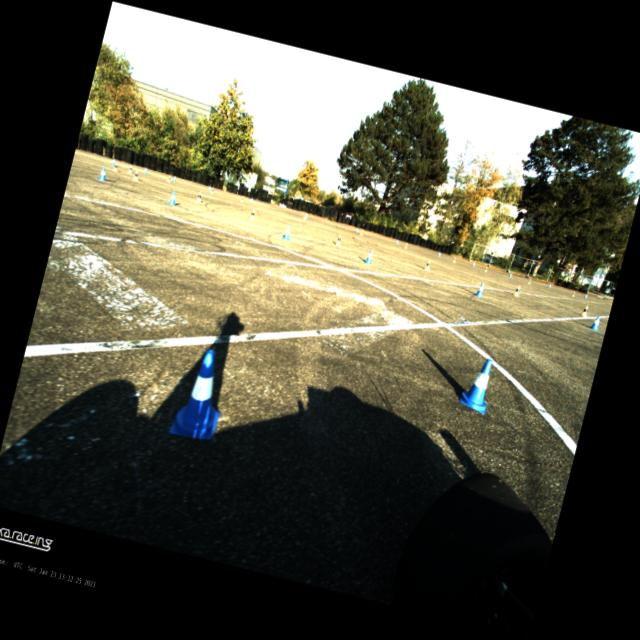blue_cone: (169, 345, 233, 442), (458, 354, 498, 414), (589, 314, 601, 330), (281, 224, 292, 240), (475, 282, 485, 298), (364, 248, 374, 264), (168, 190, 178, 206), (98, 166, 109, 180), (110, 158, 116, 166), (142, 166, 148, 173), (172, 174, 177, 182), (249, 196, 253, 203), (207, 185, 211, 191), (354, 226, 358, 232), (395, 238, 399, 244), (437, 251, 441, 257), (508, 272, 512, 278), (584, 292, 588, 298), (472, 262, 476, 266), (547, 284, 551, 288)
yellow_cone: (334, 233, 344, 246), (423, 258, 432, 272), (580, 304, 588, 316), (513, 284, 521, 296), (248, 208, 256, 220), (195, 191, 202, 203), (132, 170, 140, 180), (112, 162, 119, 172), (127, 165, 133, 173), (166, 175, 172, 182), (209, 186, 214, 194), (403, 241, 408, 249), (570, 290, 576, 296), (359, 230, 364, 236), (240, 195, 244, 202), (484, 265, 488, 272), (452, 256, 456, 262), (527, 278, 531, 284)
